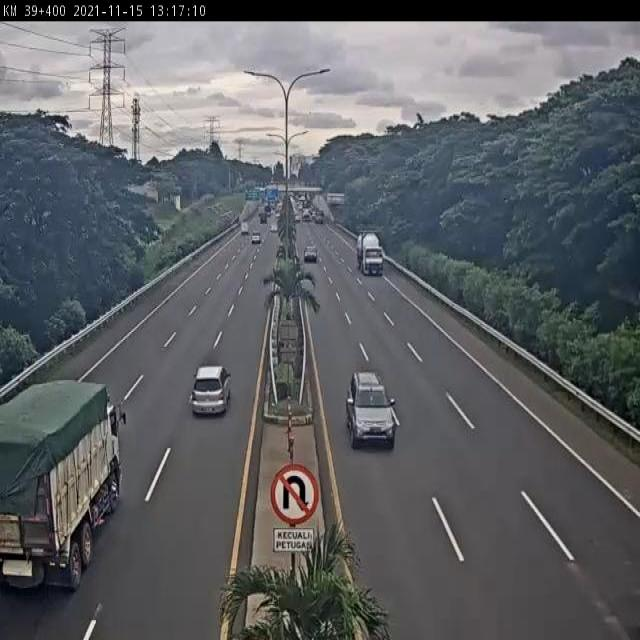Car: (344, 371, 398, 445), (190, 363, 231, 418), (304, 244, 317, 264), (252, 231, 263, 245)
Truck: (0, 376, 121, 595), (357, 226, 384, 277)
